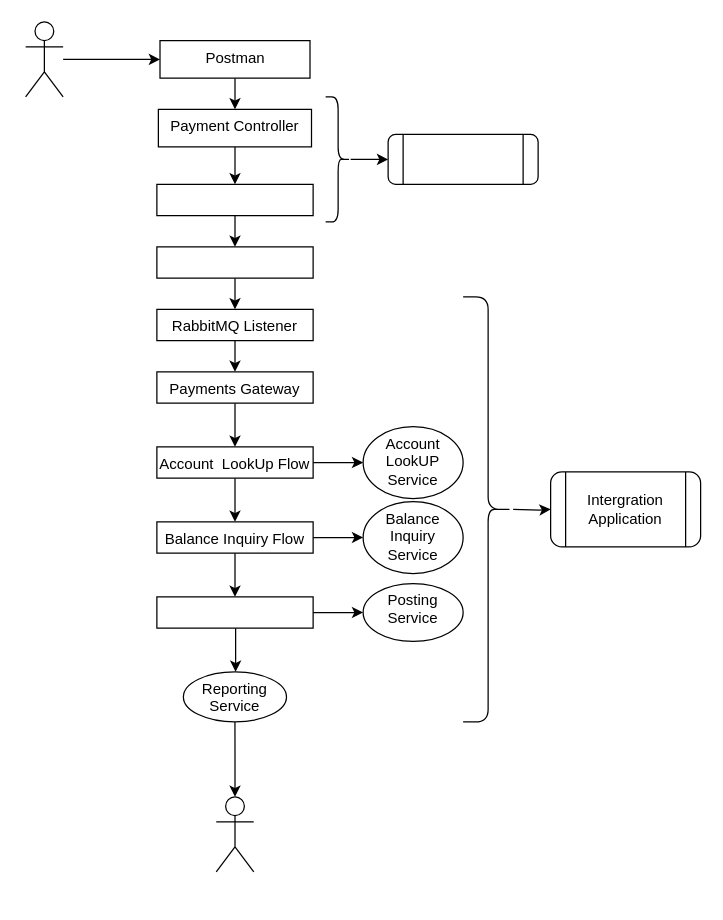
Image size: 723x920. Some labels were removed from this diagram. Here are the shapes that lost their labels. From the top down, the box of each, then its label:
(24, 21, 63, 97): Debtor
(387, 133, 538, 184): Edge Application
(156, 183, 313, 216): Feeder Service
(156, 246, 313, 278): RabbitMQ / Queue
(156, 596, 313, 628): Posting Flow
(215, 796, 254, 872): Creditor
